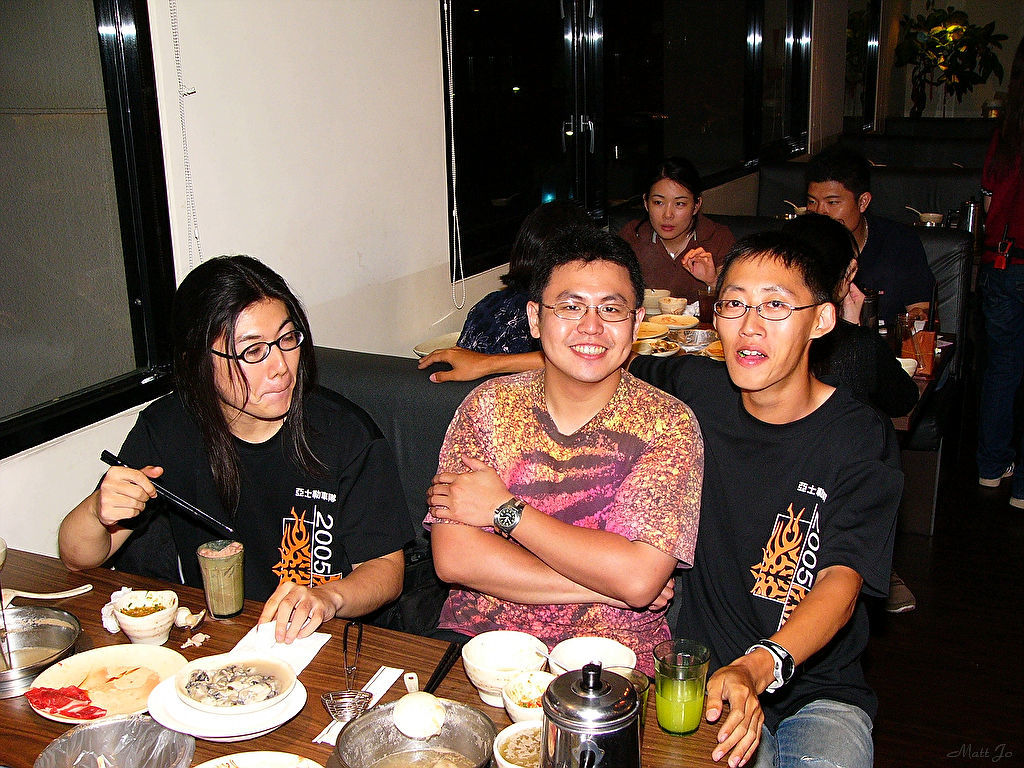Human-face: (716, 250, 808, 389), (537, 261, 634, 381), (211, 296, 299, 416), (646, 179, 695, 239), (804, 181, 860, 229)
